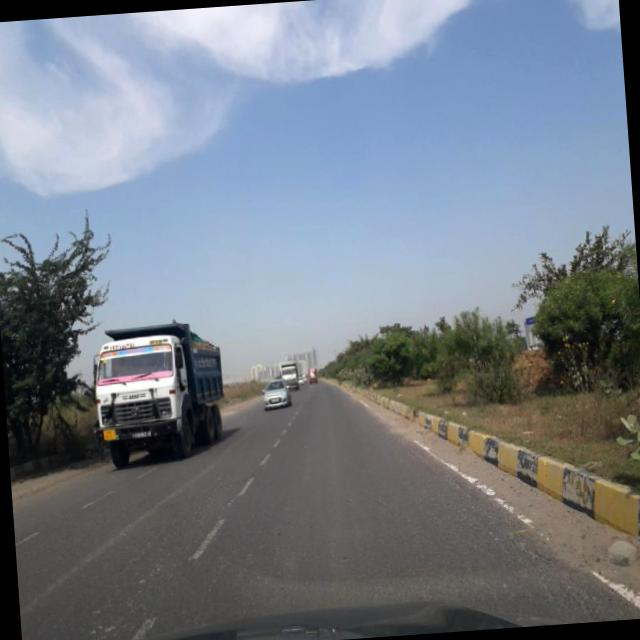crack: (382, 475, 640, 624), (13, 489, 208, 640)
